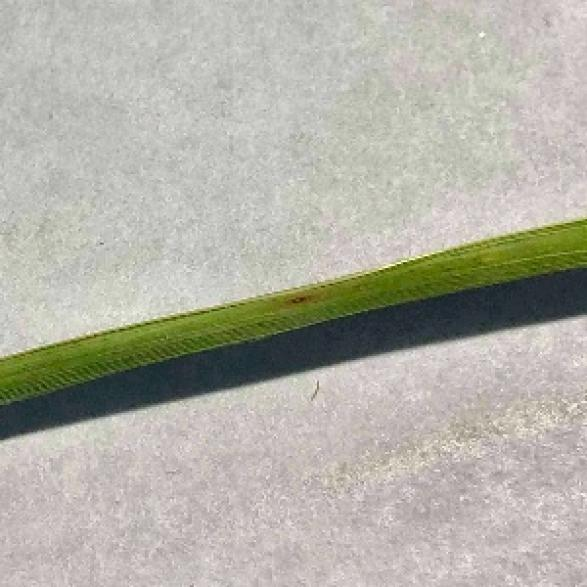Leaf_smut: (237, 270, 325, 329)
